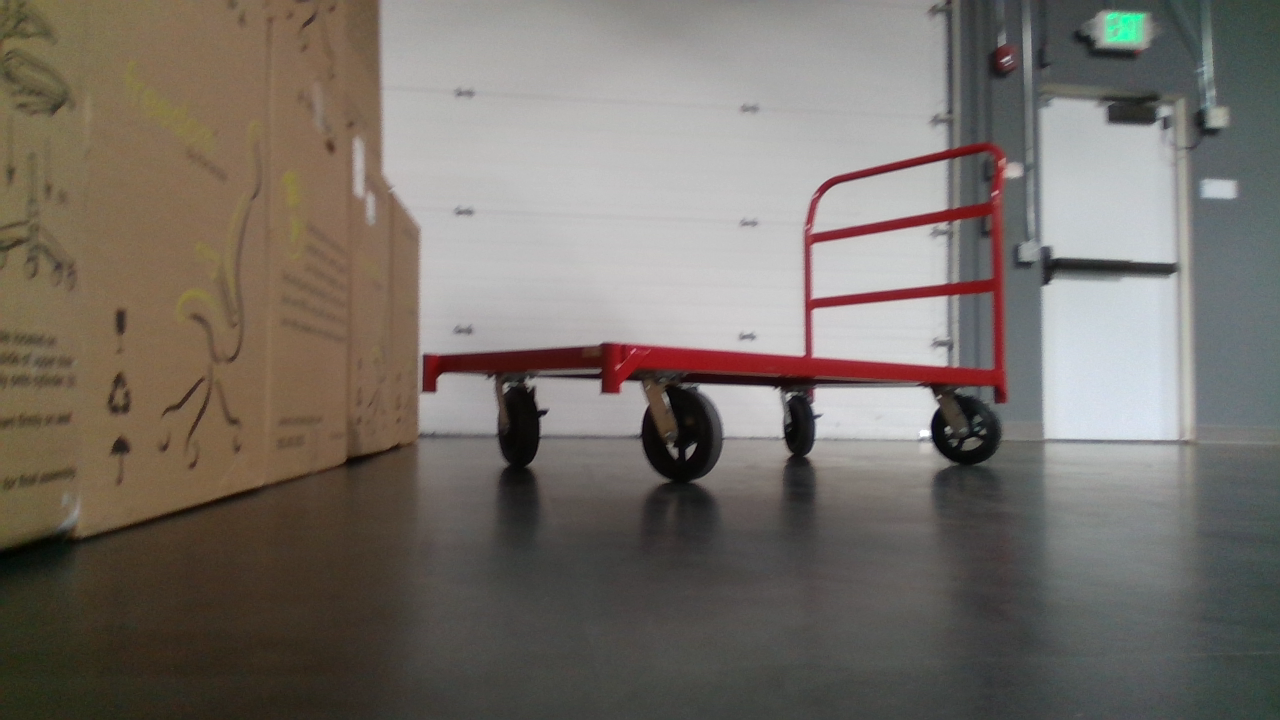Dolly: (422, 140, 1010, 485)
Wheel: (638, 383, 727, 482), (932, 396, 1002, 465), (495, 384, 545, 467), (780, 392, 820, 457)
